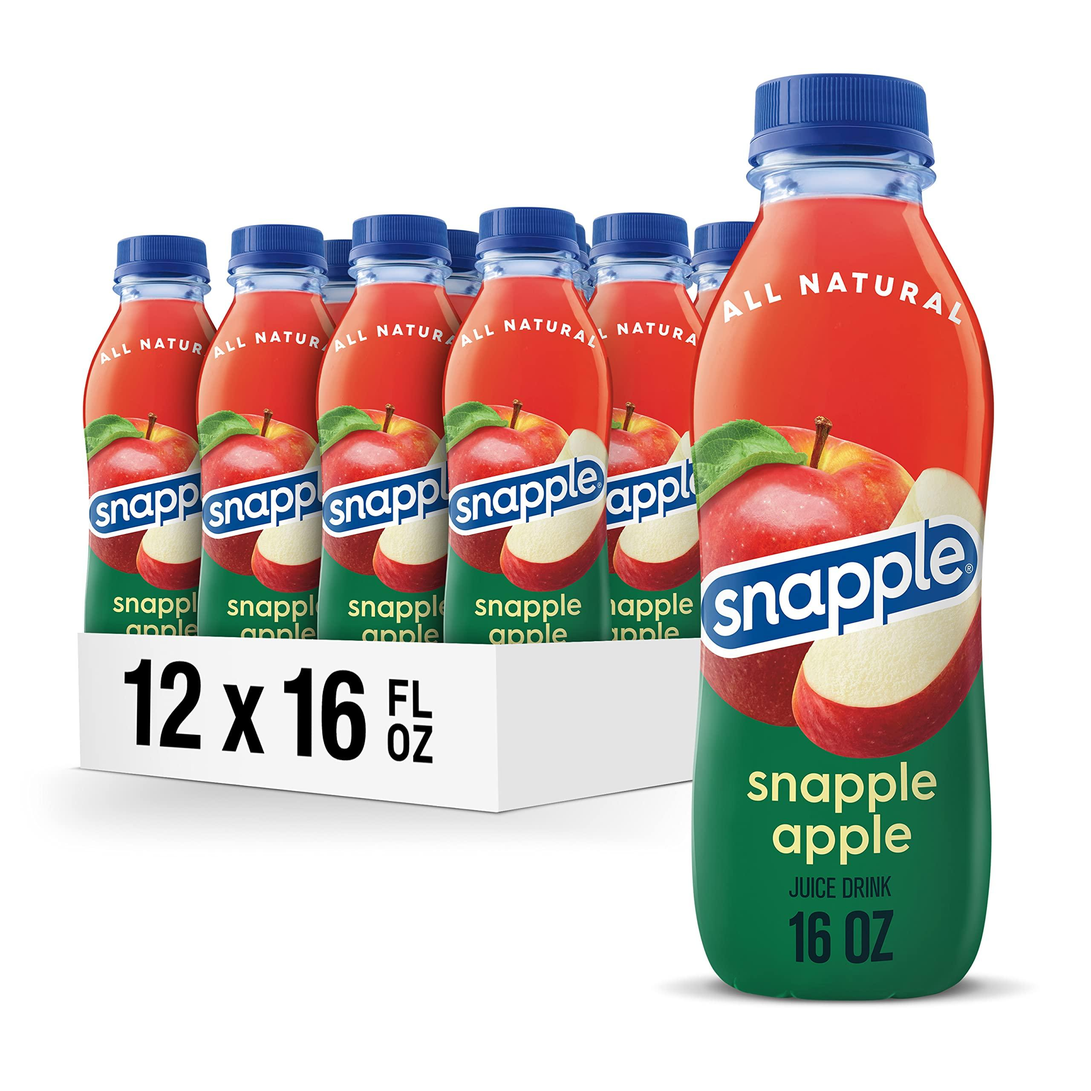juice: (725, 75, 990, 991), (442, 184, 602, 654), (576, 201, 699, 631), (69, 229, 198, 634), (210, 199, 325, 646), (335, 216, 438, 648)
